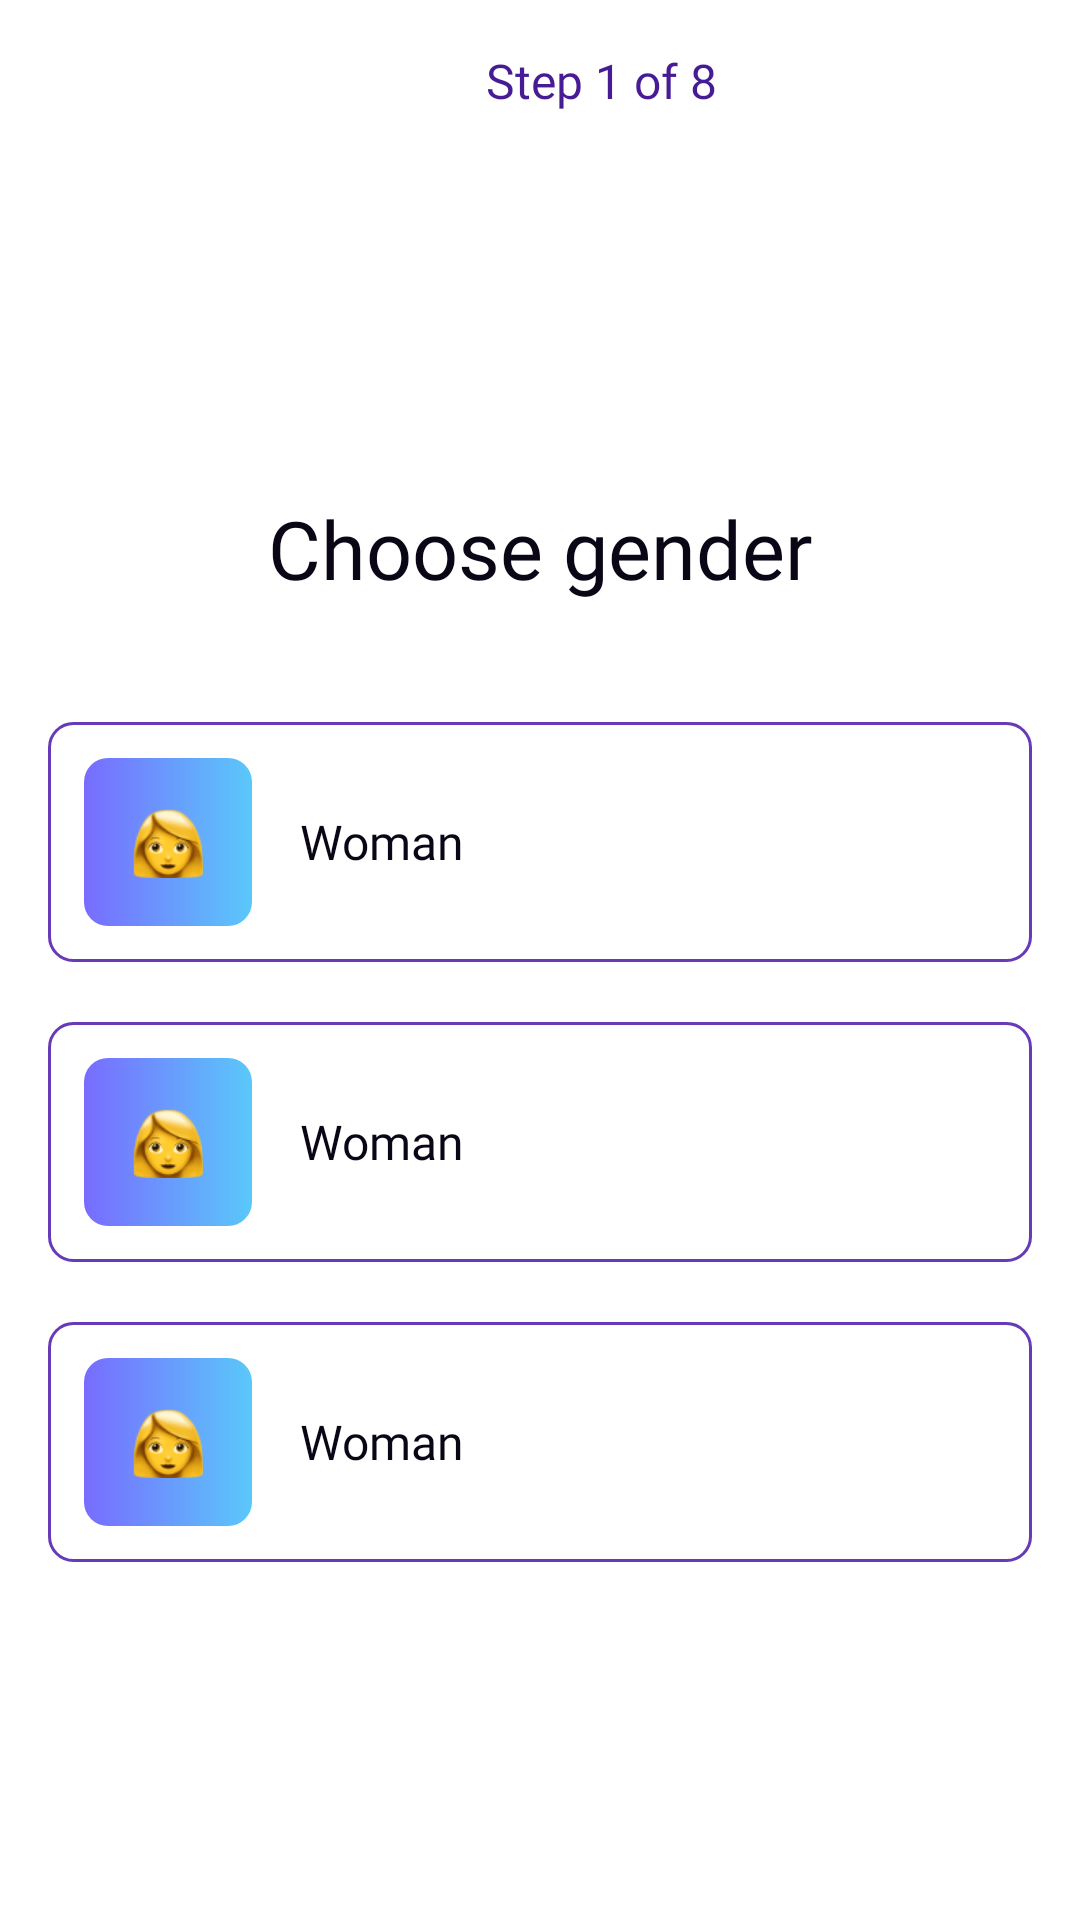

Icons on this 1080x1920 Android screen, each with the point to tap as (x=x, y=y):
women face: (x=168, y=842), (x=168, y=1142), (x=168, y=1442)
